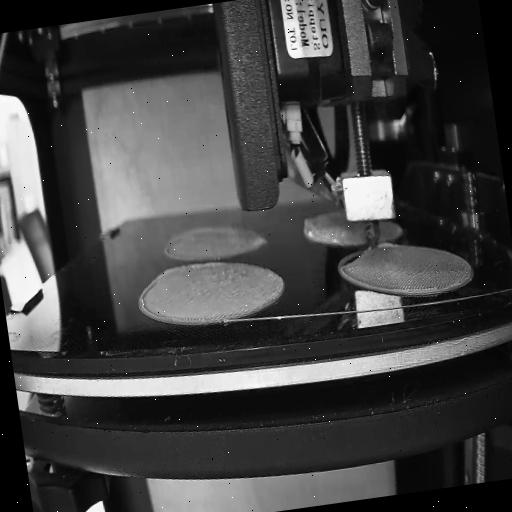over_extrusion: (133, 272, 164, 329), (378, 238, 399, 249)
